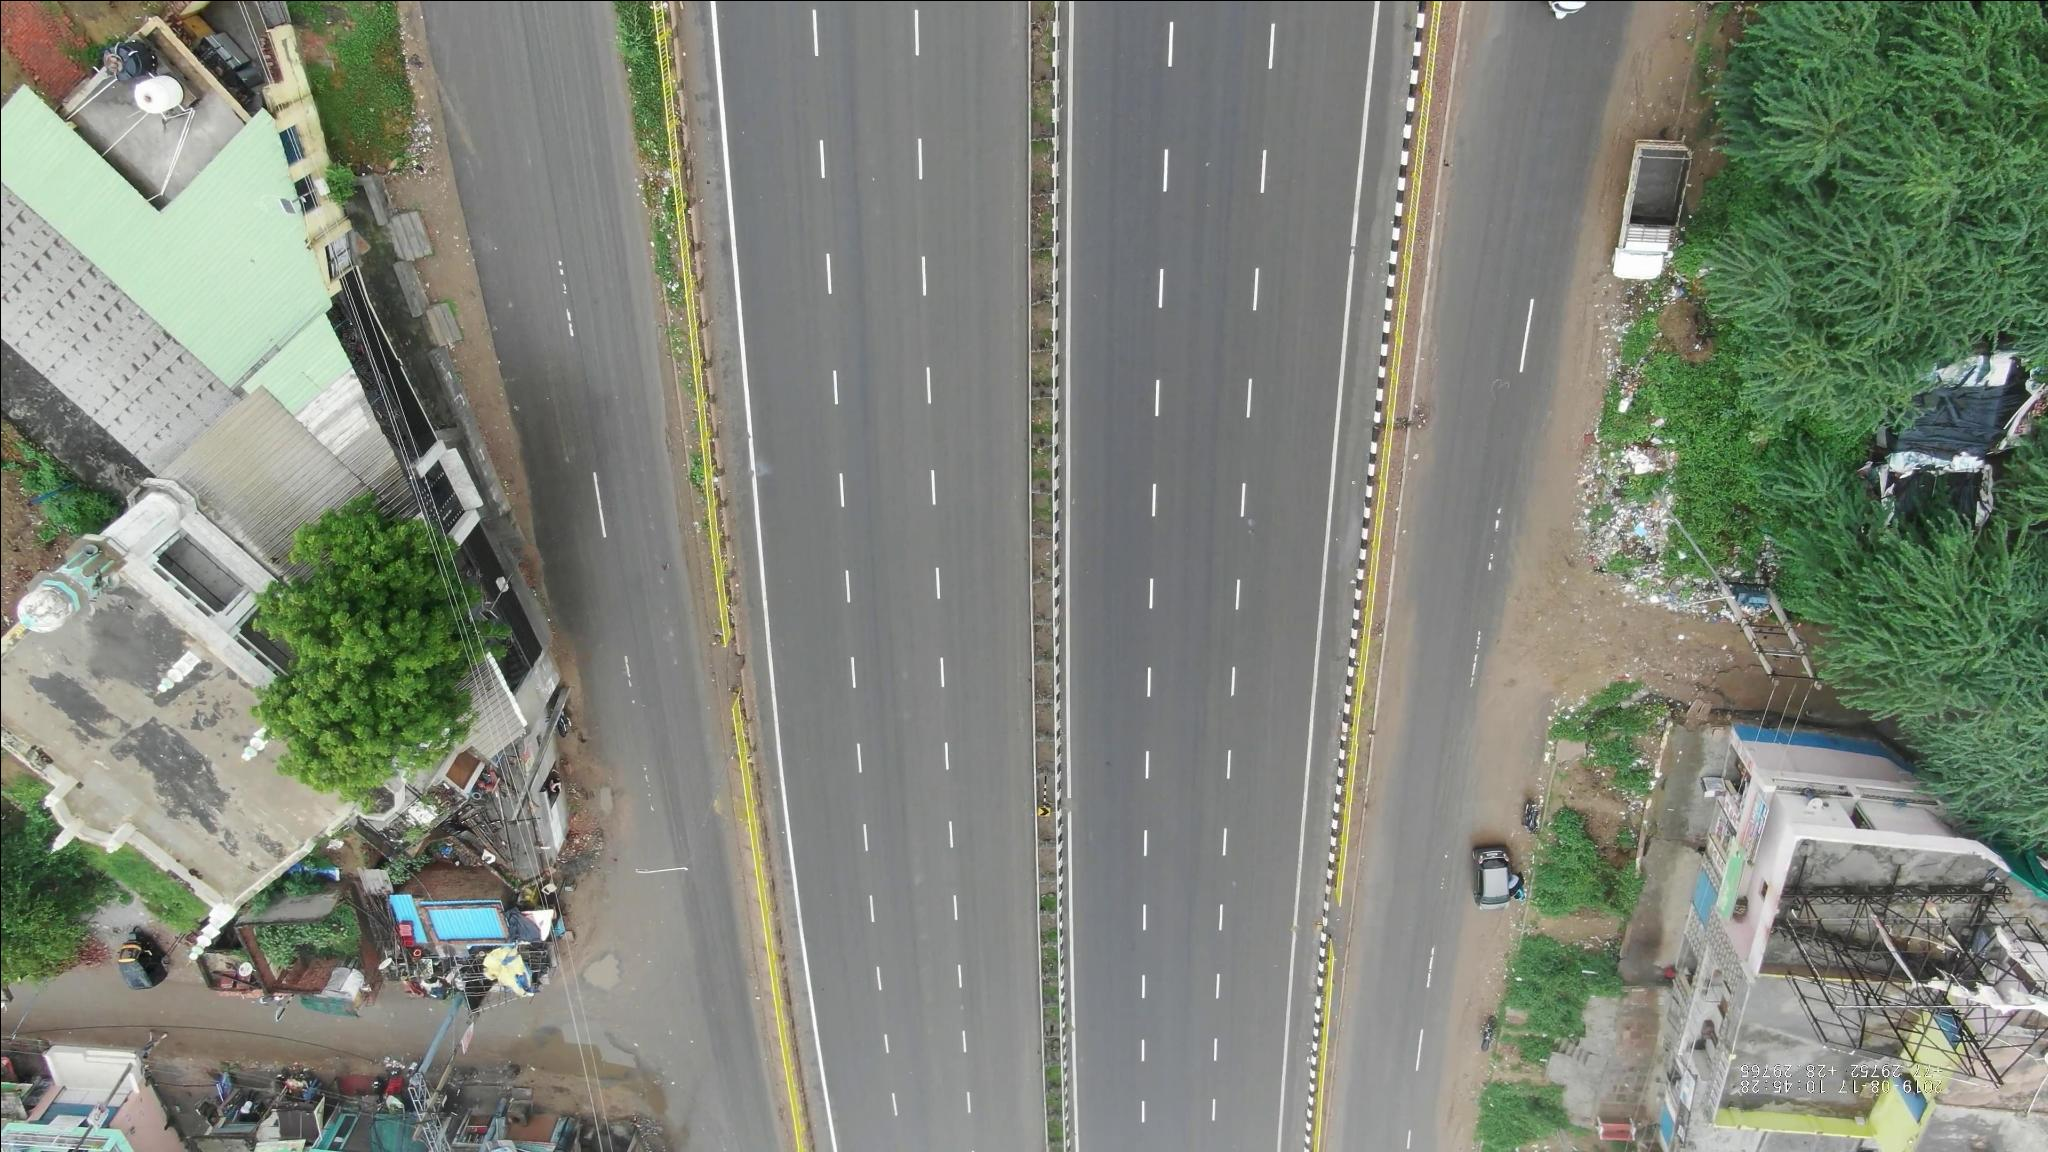Road_side_garbage: (1573, 437, 1748, 629)
